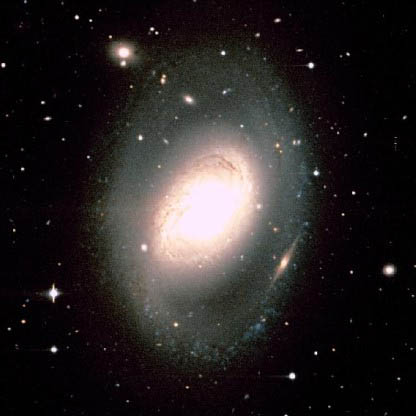Messier 96: (89, 41, 318, 370)
